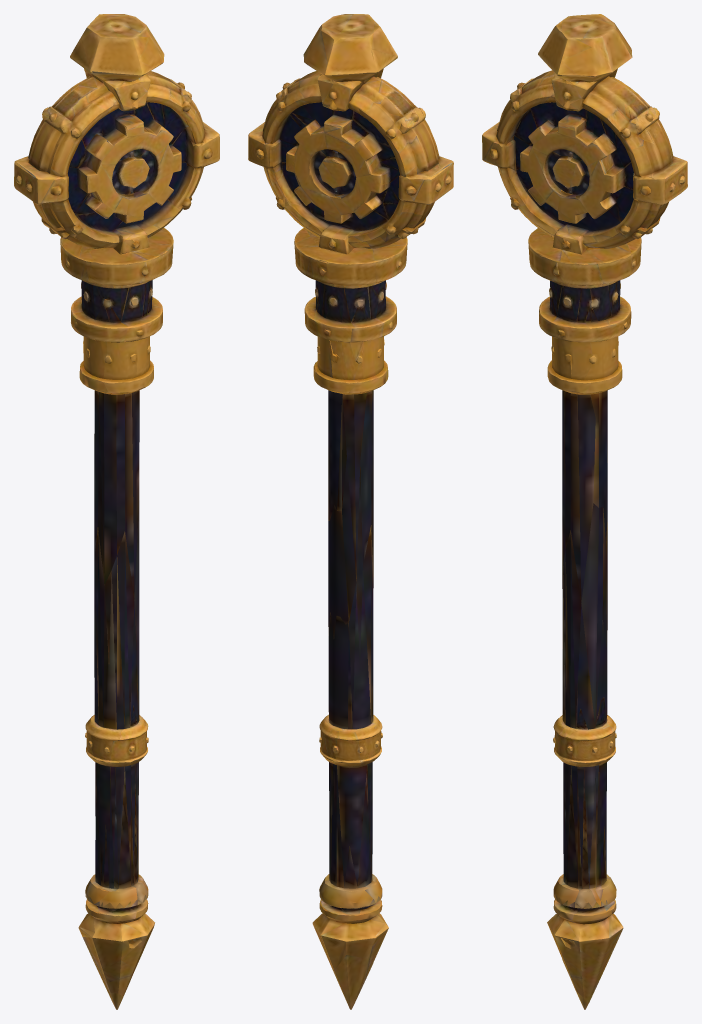
Rendered from sceptre.glb.
The picture shows the model from 3 angles, left to right: view 1: azimuth 30°, elevation 25°; view 2: azimuth 150°, elevation 25°; view 3: azimuth 330°, elevation 25°; orthographic projection.
Parts seen in each view (by area): view 1: output_unwrapped; view 2: output_unwrapped; view 3: output_unwrapped.
Part boxes in pixels (x1,y1,x2,y2): output_unwrapped: [14, 14, 219, 1009]; output_unwrapped: [248, 14, 453, 1009]; output_unwrapped: [482, 14, 687, 1009].
Bounding box in the file's own units: 0.3841 × 1.9 × 0.2036.
1 material, 1 textured.
